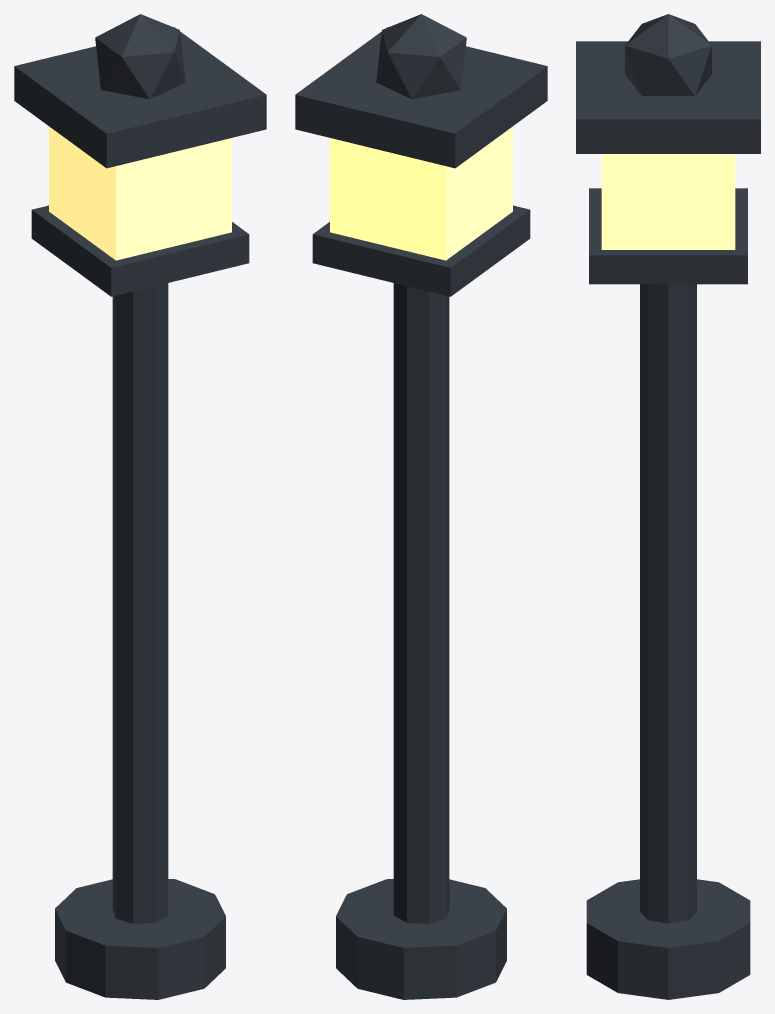
The model's file is streetlamp_classic.glb.
3 renders of one model, left to right at view 1: azimuth 30°, elevation 25°; view 2: azimuth 150°, elevation 25°; view 3: azimuth 270°, elevation 25°, orthographic.
Visible parts, largest first — view 1: Prop_Streetlamp_Classic_Metal, Prop_Streetlamp_Classic_Glass; view 2: Prop_Streetlamp_Classic_Metal, Prop_Streetlamp_Classic_Glass; view 3: Prop_Streetlamp_Classic_Metal, Prop_Streetlamp_Classic_Glass.
Part boxes in pixels (box(x1,y1,x2,y2)): Prop_Streetlamp_Classic_Metal: box(14, 14, 266, 999); Prop_Streetlamp_Classic_Glass: box(49, 126, 231, 260); Prop_Streetlamp_Classic_Metal: box(295, 14, 547, 999); Prop_Streetlamp_Classic_Glass: box(330, 126, 512, 260); Prop_Streetlamp_Classic_Metal: box(576, 14, 760, 999); Prop_Streetlamp_Classic_Glass: box(601, 154, 735, 249).
Size of the model in its own units: 0.58 by 3.29 by 0.58.
